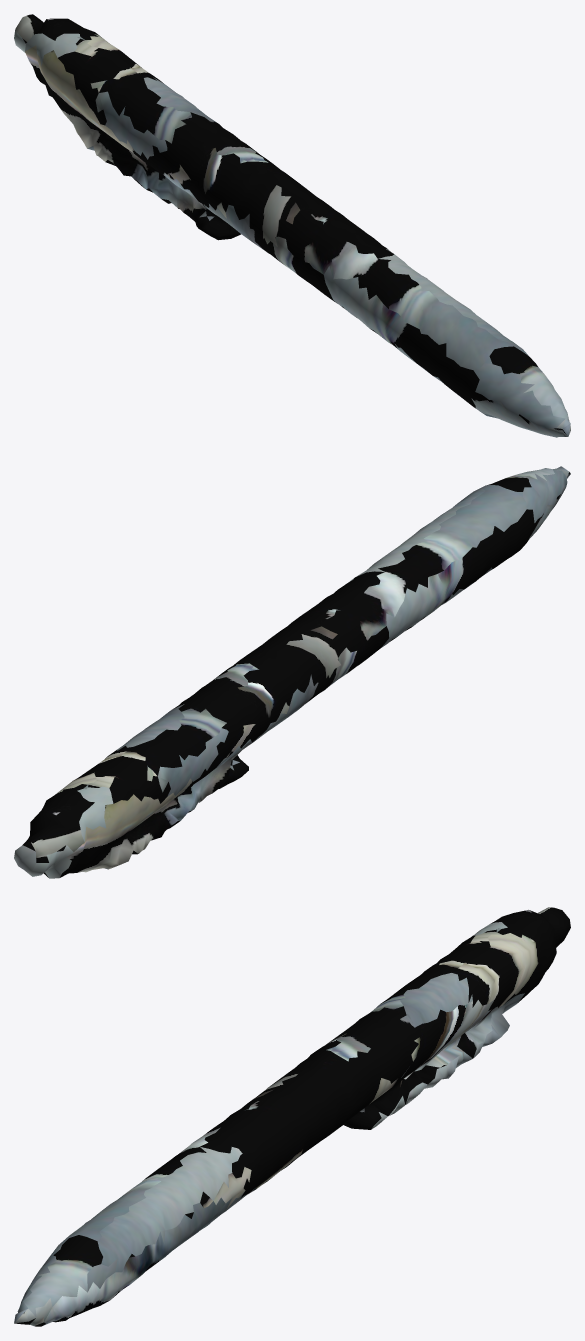
File: scan_align.obj
3 views of the same model, one above another, from view 1: azimuth 30°, elevation 25°; view 2: azimuth 150°, elevation 25°; view 3: azimuth 330°, elevation 25° (orthographic).
Bounding box in the file's own units: 0.0104 × 0.014 × 0.1481.
